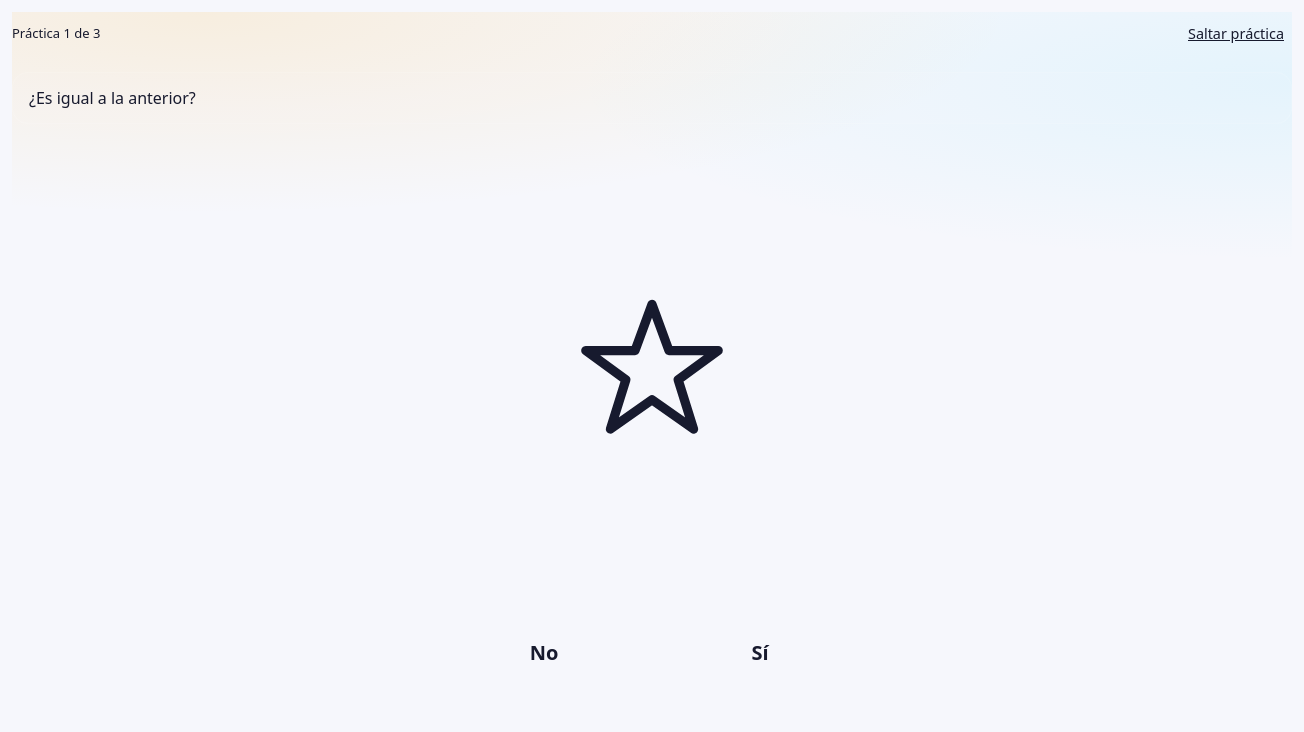
Test: answering yes, no, yes completes once
Expected: the text "Práctica 1 de 3" is shown, [12, 24, 100, 44]
What coordinates should you click on to do the following:
click the button "Sí"
I would click on:
 (760, 653)
Its box is [660, 614, 860, 692].
Wait 700 ms
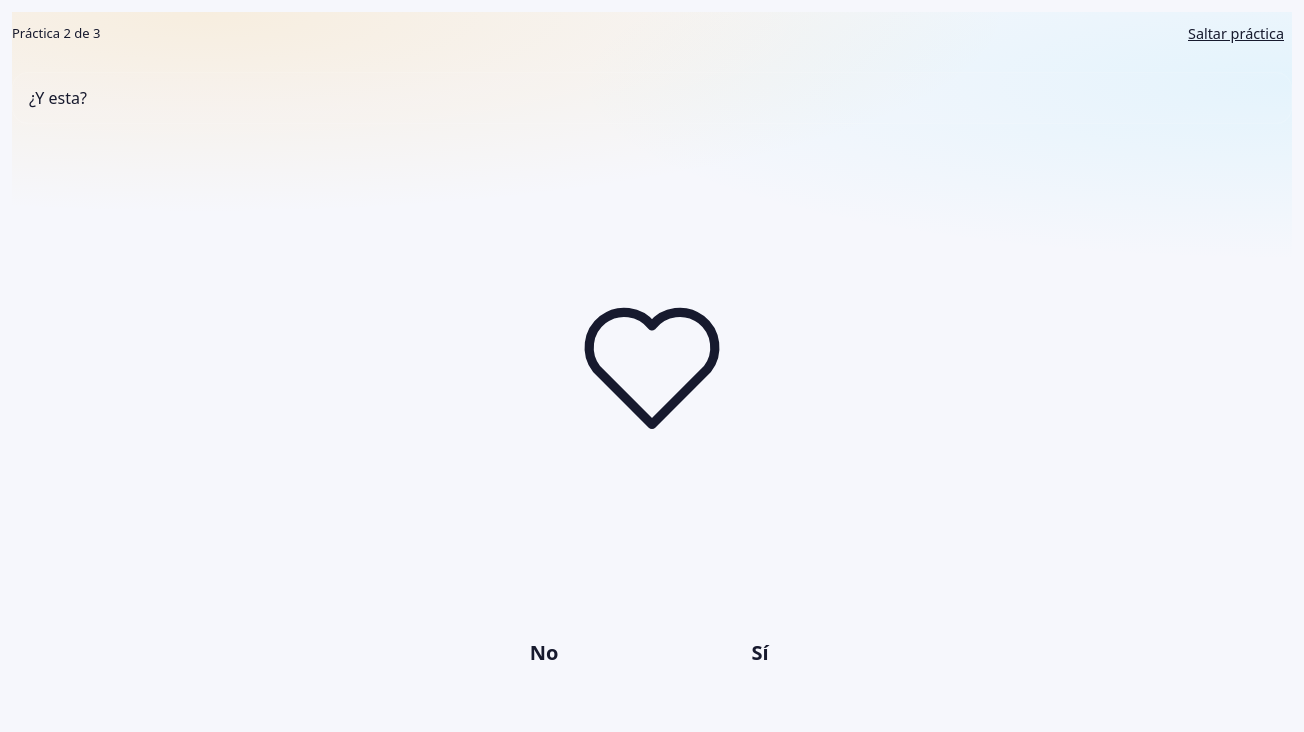
Expected: the text "¡Bien!" is shown, [12, 72, 1292, 124]
Expected: the text "Práctica 2 de 3" is shown, [12, 24, 100, 44]
What coordinates should you click on to do the following:
click the button "No"
I would click on:
 (544, 653)
Its box is [444, 614, 644, 692].
Wait 700 ms
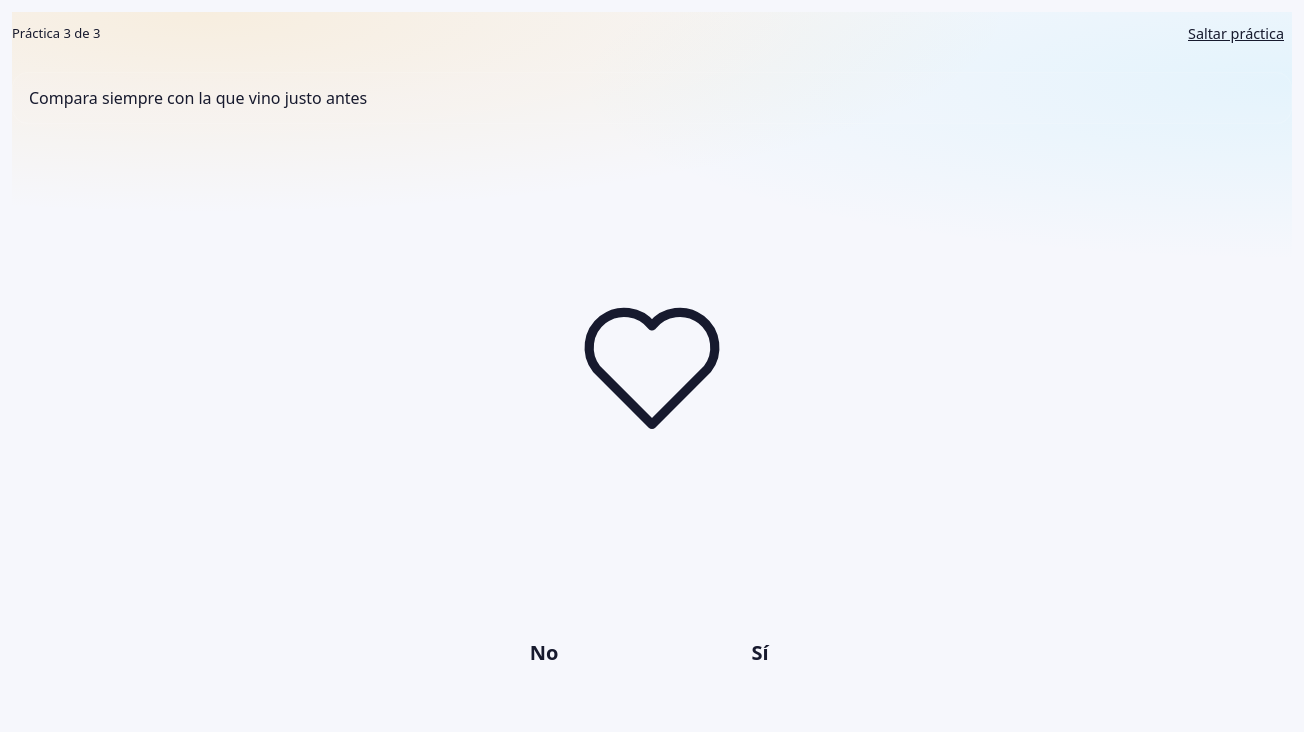
Expected: the text "¡Bien!" is shown, [12, 72, 1292, 124]
What coordinates should you click on to do the following:
click the button "Sí"
I would click on:
 (760, 653)
Its box is [660, 614, 860, 692].
Wait 700 ms
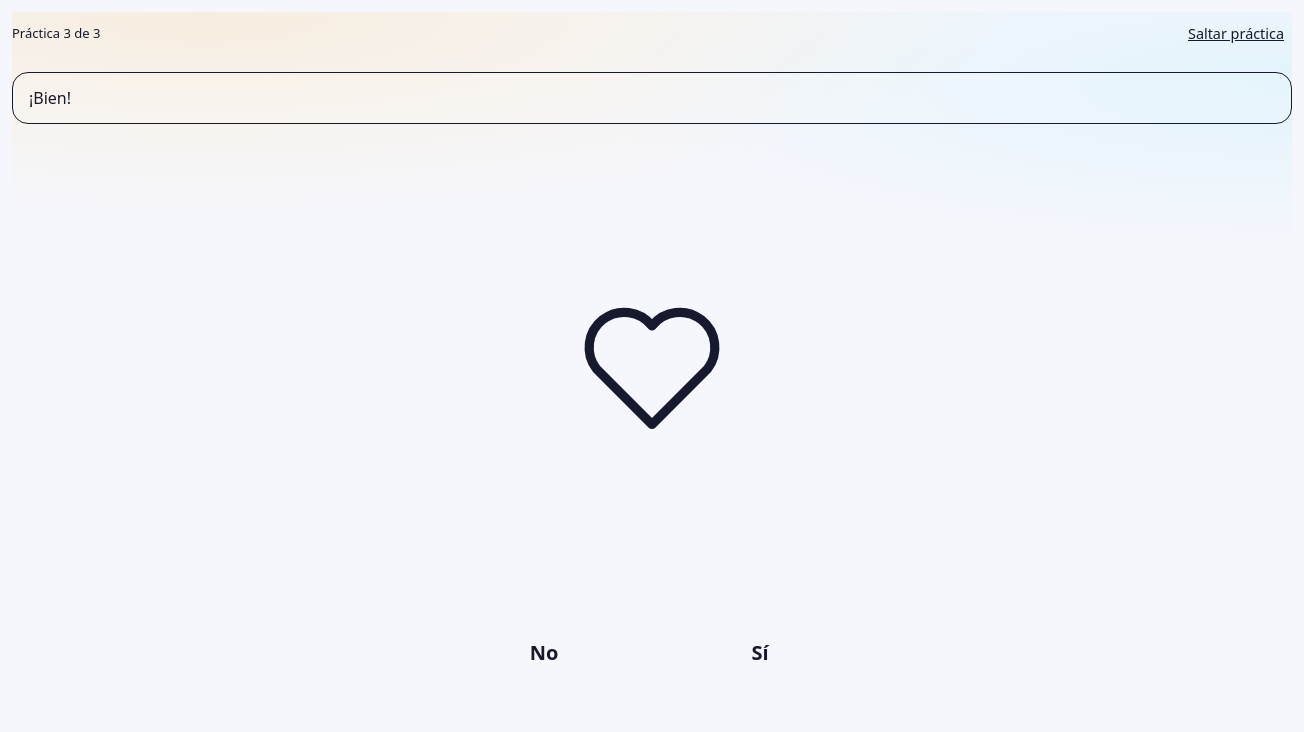
Expected: the text "¡Bien!" is shown, [12, 72, 1292, 124]
